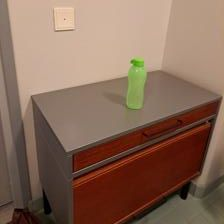bottle: (123, 54, 148, 110)
